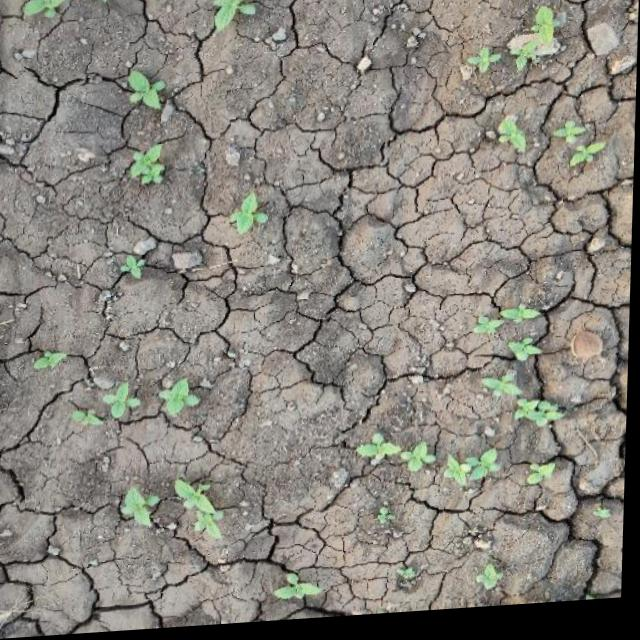crop: (469, 303, 568, 440), (451, 1, 573, 89), (106, 470, 234, 550), (118, 57, 177, 201), (66, 375, 209, 432), (359, 427, 440, 498), (551, 113, 609, 195), (446, 456, 512, 498), (484, 110, 534, 165), (191, 0, 267, 35), (267, 574, 333, 613), (225, 190, 274, 238)
